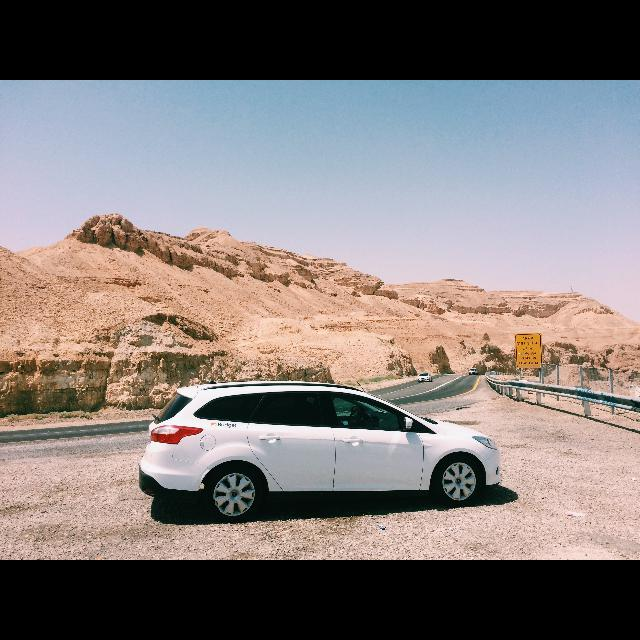cars: (132, 372, 504, 526), (416, 366, 434, 386)
